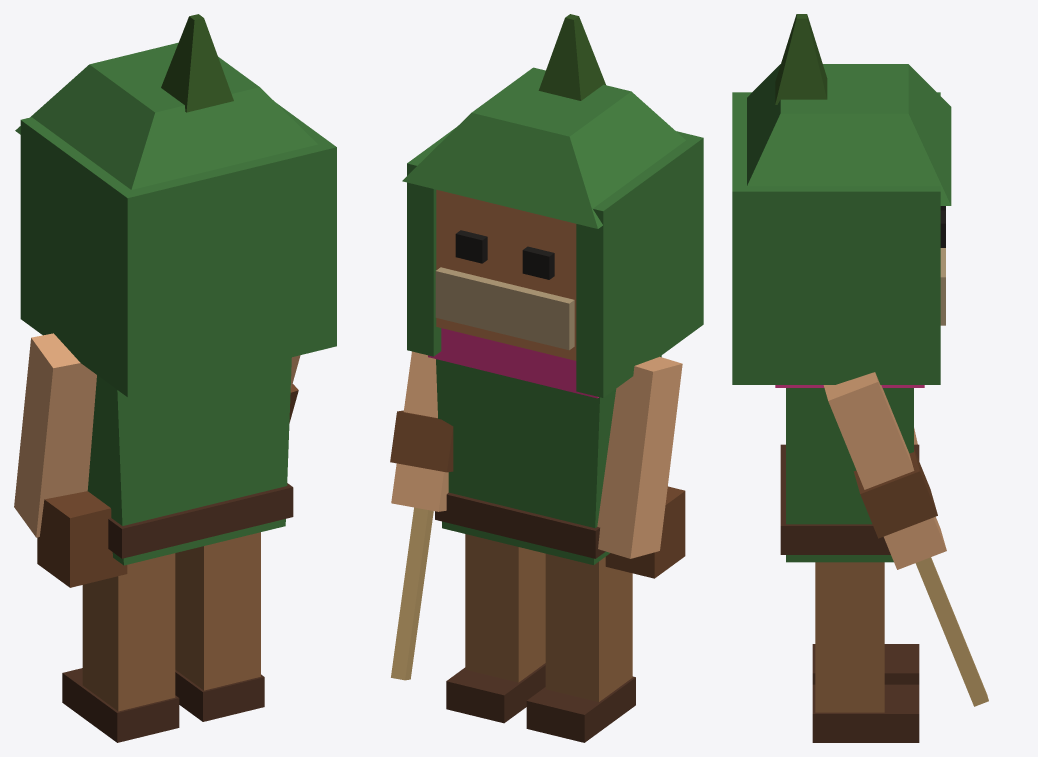
The model's file is EN_Slinger.fbx.
The picture shows the model from 3 angles, left to right: view 1: azimuth 30°, elevation 25°; view 2: azimuth 150°, elevation 25°; view 3: azimuth 270°, elevation 25°; orthographic projection. The views are drawn at different scales.
Visible parts, largest first — view 1: HoodBack, Body, HoodTop, HoodSideL, LegL, LegR, ArmL, StoneBag, Belt, HoodTip, FootL, FootR; view 2: HoodTop, HoodSideL, Body, ArmL, LegL, Head, LegR, Mask, HoodSideR, Belt, Scarf, FootL (+9 smaller); view 3: HoodSideR, HoodTop, Body, LegR, HoodBack, ArmR, FootR, Belt, Wrap, HoodTip, SlingStrap, FootL.
Boxes of the visible parts, left/top/right/bottom form: HoodBack: left=105, top=131, right=336, bottom=397; Body: left=87, top=357, right=291, bottom=565; HoodTop: left=15, top=42, right=317, bottom=189; HoodSideL: left=20, top=117, right=146, bottom=394; LegL: left=82, top=553, right=175, bottom=711; LegR: left=175, top=532, right=260, bottom=690; ArmL: left=14, top=333, right=96, bottom=537; StoneBag: left=37, top=491, right=127, bottom=587; Belt: left=108, top=483, right=293, bottom=558; HoodTip: left=161, top=14, right=233, bottom=112; FootL: left=62, top=668, right=179, bottom=742; FootR: left=175, top=670, right=264, bottom=721; HoodTop: left=402, top=67, right=685, bottom=228; HoodSideL: left=576, top=134, right=700, bottom=397; Body: left=436, top=355, right=661, bottom=565; ArmL: left=597, top=356, right=682, bottom=558; LegL: left=545, top=553, right=632, bottom=701; Head: left=436, top=189, right=576, bottom=360; LegR: left=465, top=534, right=545, bottom=682; Mask: left=435, top=267, right=574, bottom=350; HoodSideR: left=407, top=128, right=455, bottom=356; Belt: left=435, top=492, right=605, bottom=558; Scarf: left=428, top=328, right=598, bottom=398; FootL: left=526, top=676, right=635, bottom=742; HoodSideR: left=737, top=178, right=940, bottom=384; HoodTop: left=747, top=64, right=951, bottom=205; Body: left=786, top=388, right=913, bottom=562; LegR: left=815, top=562, right=884, bottom=712; HoodBack: left=732, top=92, right=775, bottom=384; ArmR: left=823, top=372, right=946, bottom=569; FootR: left=812, top=684, right=919, bottom=742; Belt: left=780, top=444, right=919, bottom=554; Wrap: left=853, top=449, right=937, bottom=538; HoodTip: left=775, top=14, right=827, bottom=104; SlingStrap: left=915, top=557, right=988, bottom=706; FootL: left=812, top=644, right=919, bottom=684.
Bounding box in the file's own units: 0.5527 × 0.5453 × 1.43.
